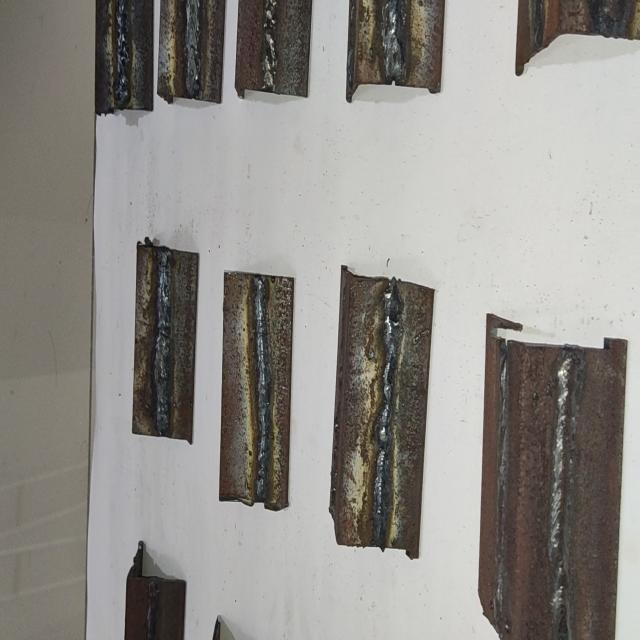Bad Weld: (260, 0, 279, 92), (115, 0, 130, 107)
Defect: (114, 0, 130, 106), (263, 0, 279, 89)
Good Weld: (550, 353, 578, 639), (369, 285, 398, 549), (250, 280, 268, 503), (156, 249, 172, 433), (186, 0, 202, 94), (385, 0, 404, 77)
